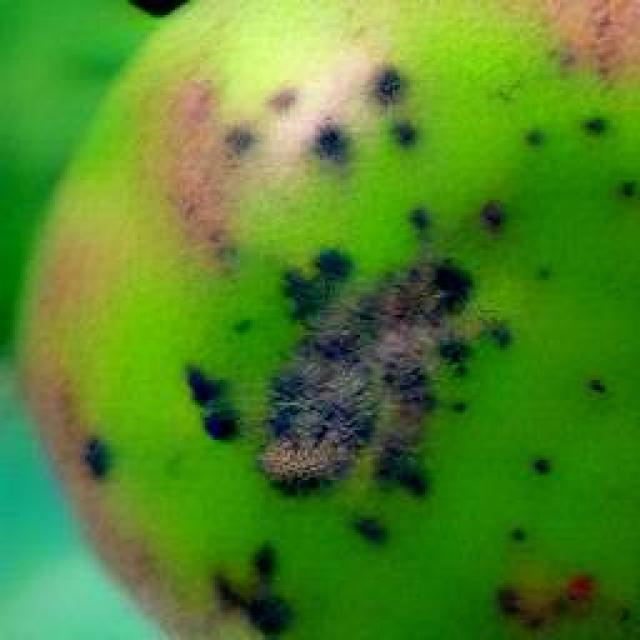defective: (10, 0, 638, 638)
